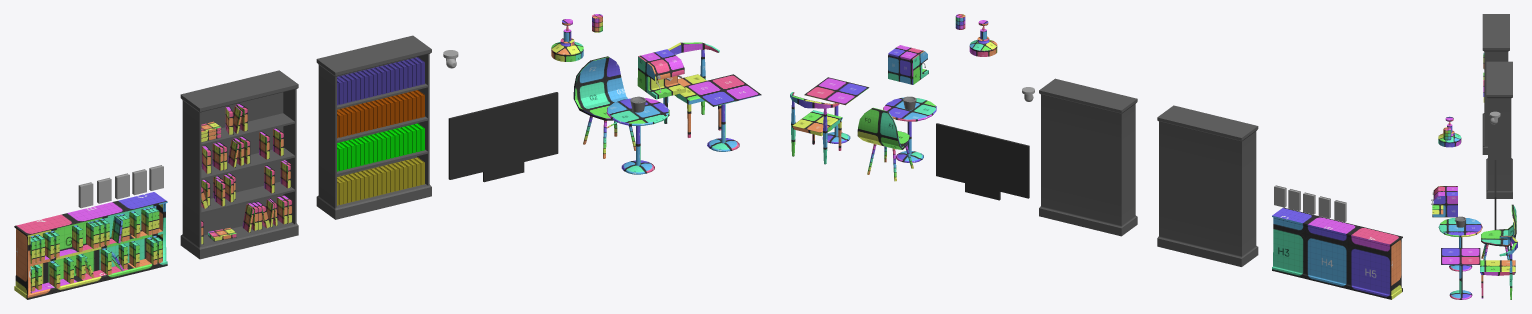
The model's file is Ideation Test 2.fbx.
The picture shows the model from 3 angles, left to right: view 1: azimuth 30°, elevation 25°; view 2: azimuth 150°, elevation 25°; view 3: azimuth 270°, elevation 25°; orthographic projection. The views are drawn at different scales.
Visible parts, largest first — view 1: BookShelf_Regular_1, BookShelf_Regular, TV, BookShelf_Short, MASH6_ReproMesh, MASH3_ReproMesh, MASH3_ReproMesh2, MASH3_ReproMesh3, MASH3_ReproMesh1, Sit, MASH5_ReproMesh, pasted__Base (+6 smaller); view 2: BookShelf_Regular_1, BookShelf_Regular, BookShelf_Short, TV, Sit (×2), pasted__Base, pCube4, Tabletop, R_BackLeg1, LampShell; view 3: BookShelf_Regular, BookShelf_Regular_1, Sit (×2), pasted__Base, pCube4, Tabletop, R_BackLeg1, LampShell, TV, Base2, Base, Hanging_Lamp_2 (+2 smaller).
Part boxes in pixels (left/top/right/bottom): BookShelf_Regular_1: left=180, top=70, right=298, bottom=259; BookShelf_Regular: left=316, top=35, right=431, bottom=219; TV: left=448, top=92, right=558, bottom=182; BookShelf_Short: left=14, top=192, right=167, bottom=299; MASH6_ReproMesh: left=30, top=206, right=159, bottom=263; MASH3_ReproMesh: left=337, top=57, right=424, bottom=105; MASH3_ReproMesh2: left=337, top=123, right=424, bottom=171; MASH3_ReproMesh3: left=337, top=157, right=424, bottom=205; MASH3_ReproMesh1: left=337, top=90, right=424, bottom=138; Sit: left=573, top=56, right=627, bottom=120; MASH5_ReproMesh: left=30, top=235, right=162, bottom=291; pasted__Base: left=637, top=49, right=685, bottom=99; BookShelf_Regular_1: left=1157, top=105, right=1258, bottom=266; BookShelf_Regular: left=1039, top=78, right=1137, bottom=236; BookShelf_Short: left=1272, top=207, right=1402, bottom=299; TV: left=936, top=123, right=1029, bottom=200; Sit (×2): left=792, top=107, right=909, bottom=149; pasted__Base: left=888, top=45, right=928, bottom=84; pCube4: left=804, top=77, right=869, bottom=105; Tabletop: left=883, top=97, right=936, bottom=121; R_BackLeg1: left=790, top=92, right=839, bottom=164; LampShell: left=969, top=29, right=997, bottom=56; BookShelf_Regular: left=1486, top=61, right=1512, bottom=198; BookShelf_Regular_1: left=1482, top=14, right=1509, bottom=154; Sit (×2): left=1480, top=204, right=1516, bottom=275; pasted__Base: left=1432, top=186, right=1457, bottom=217; pCube4: left=1441, top=248, right=1480, bottom=264; Tabletop: left=1438, top=218, right=1482, bottom=237; R_BackLeg1: left=1499, top=235, right=1517, bottom=299; LampShell: left=1438, top=124, right=1461, bottom=147; TV: left=1494, top=160, right=1496, bottom=229; Base2: left=1449, top=290, right=1472, bottom=299; Base: left=1449, top=265, right=1472, bottom=271; Hanging_Lamp_2: left=1443, top=127, right=1451, bottom=140.
Size of the model in its own units: 1038 by 242 by 157.
12 materials, 2 textured.
